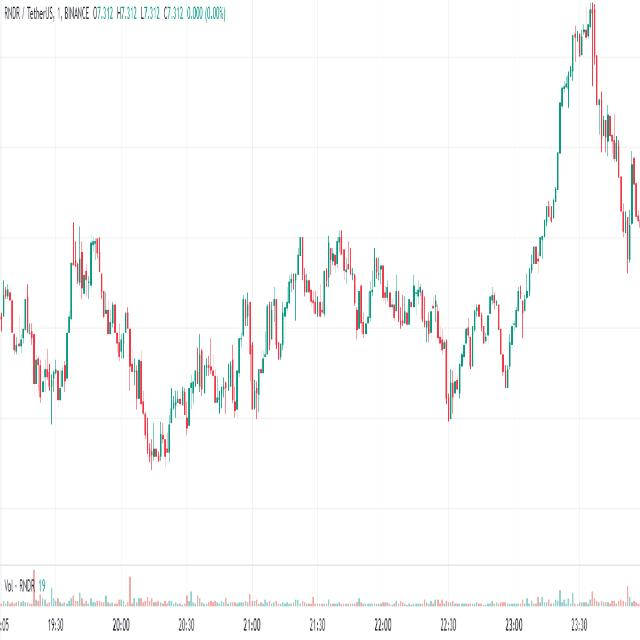Rounding-Top: (254, 223, 450, 418)
